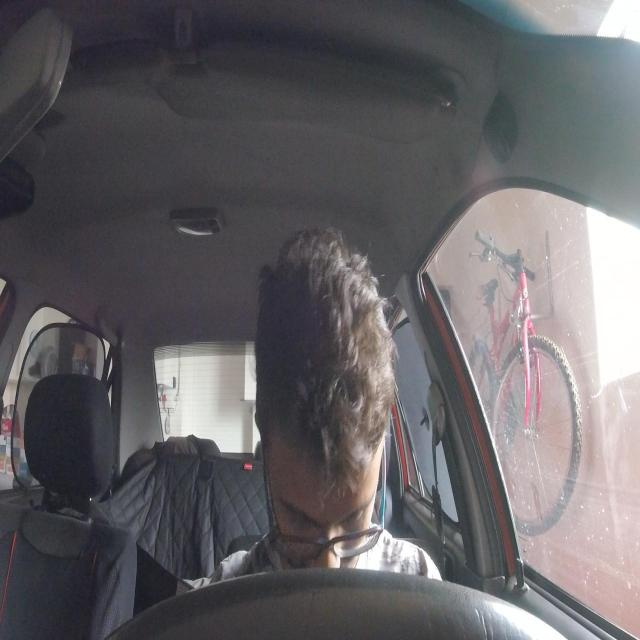close: (340, 496, 370, 536), (285, 504, 314, 537)
